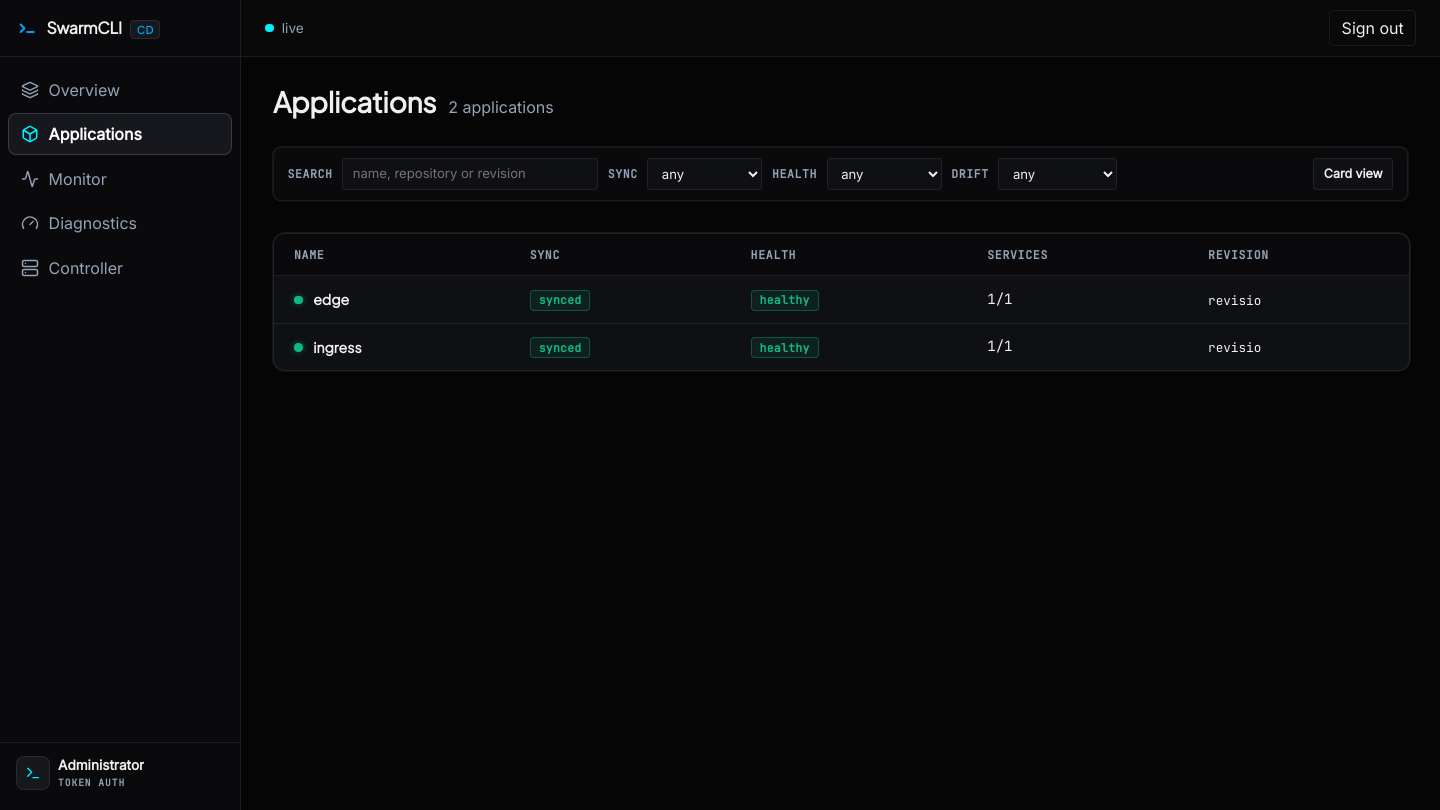
Test case: the filters, which are a link and not a preference › filters on the text of a name, a repository or a revision
Check: the link "edge" is shown, box [313, 289, 349, 310]
Type "ingr" into the search field labelled "Search" at [470, 174], box [342, 158, 598, 190]
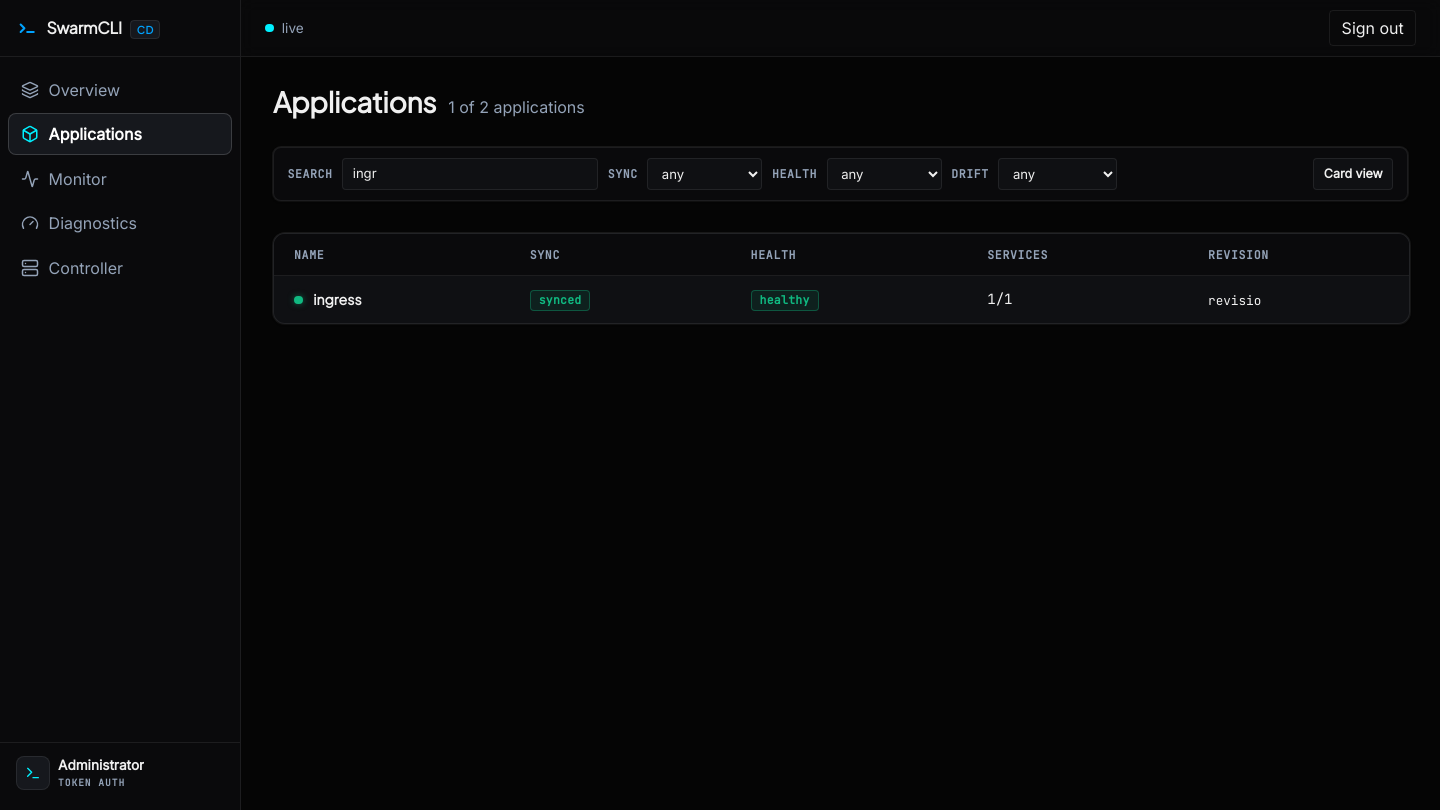
Check: the link "edge" is gone
